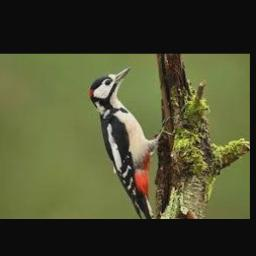Woodpecker: (90, 66, 175, 219)
